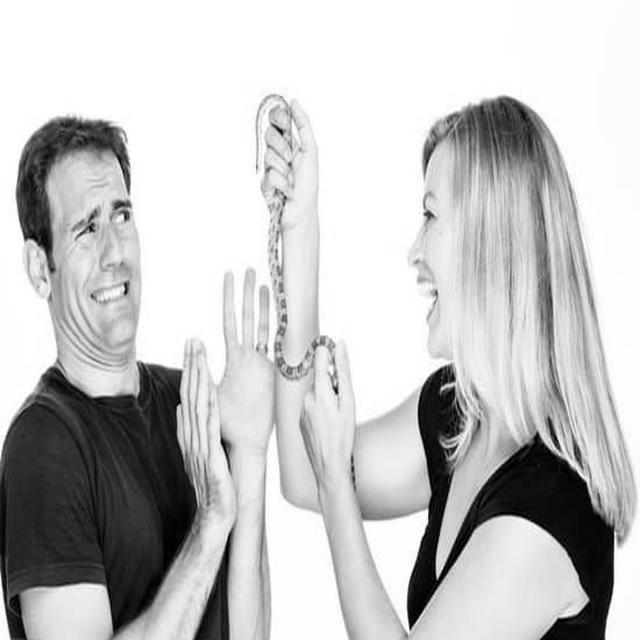Fear: (48, 150, 142, 350)
